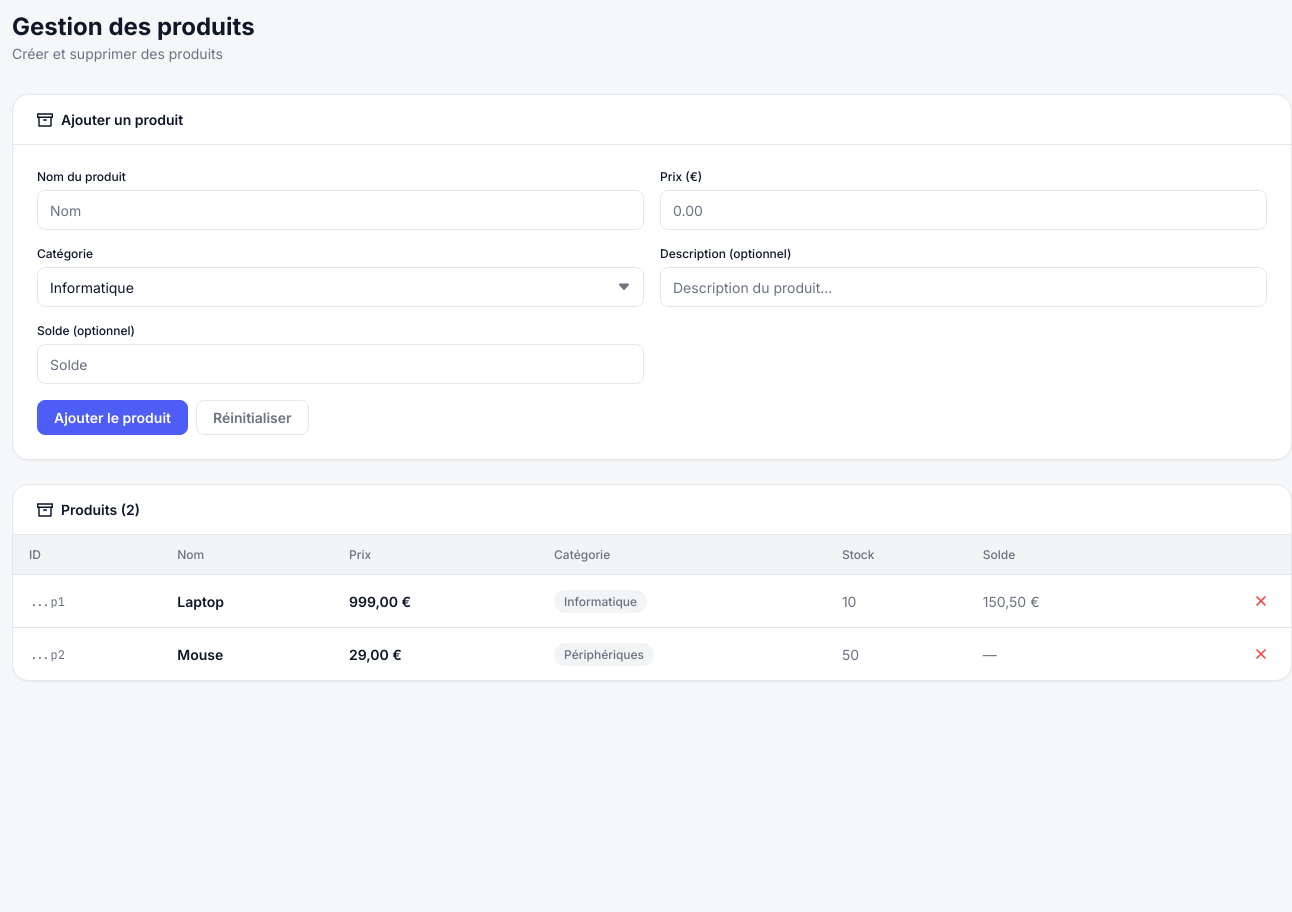
Scenario: AdminProductsPage › shows error when delete fails
This screenshot has width=1292, height=912.
Check: the text "Laptop" is shown, box [161,574,333,628]
Click the button titled "Supprimer" in the row of "p1" at point(1261, 601), box [1247,587,1275,615]
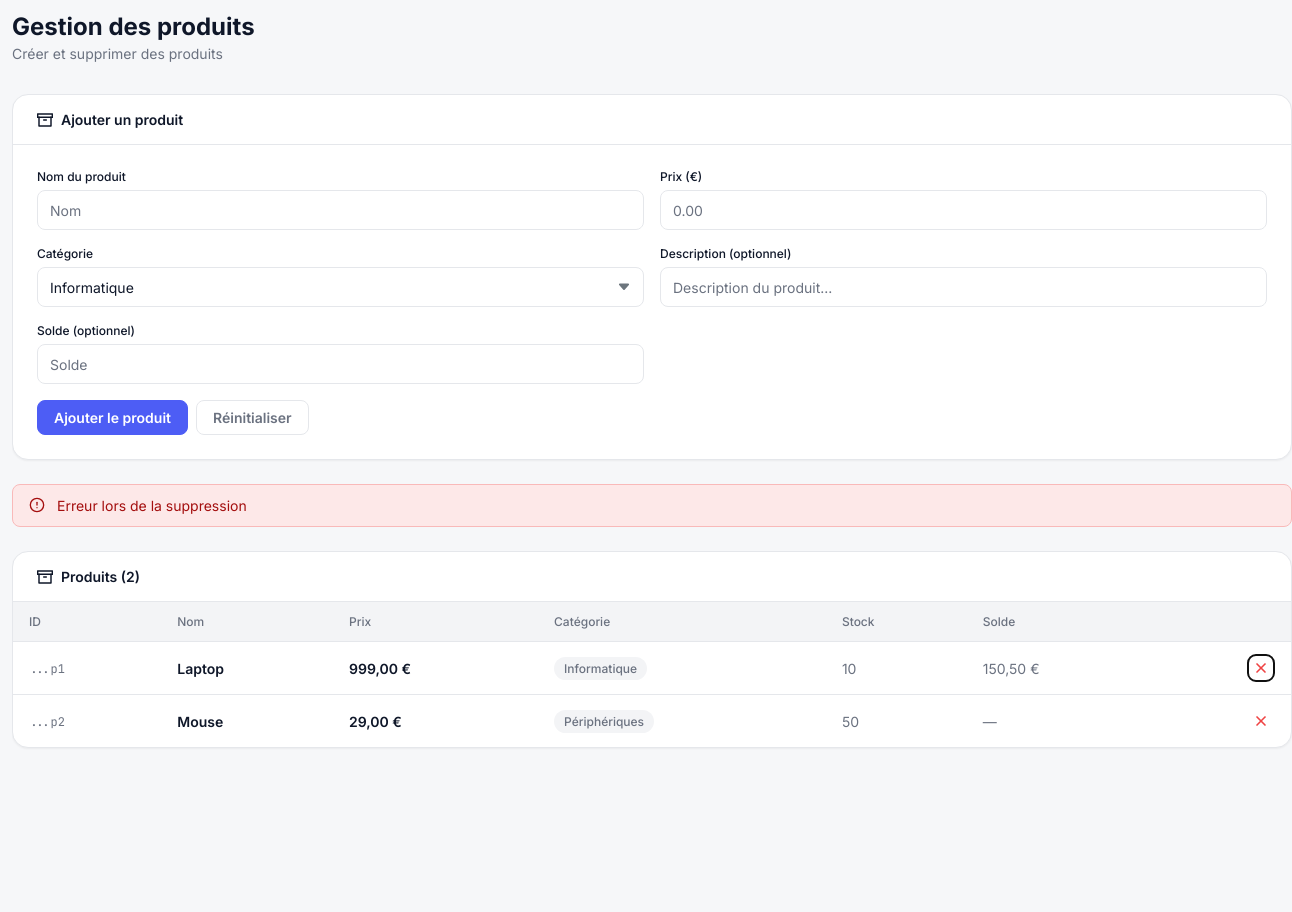
Check: the text "Erreur lors de la suppression" is shown, box [12,484,1291,527]
